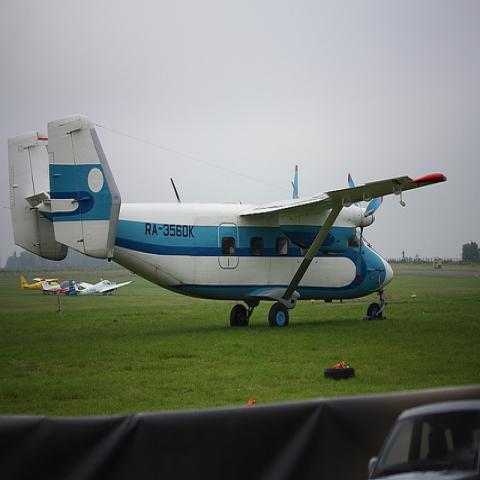car: (367, 399, 479, 479)
